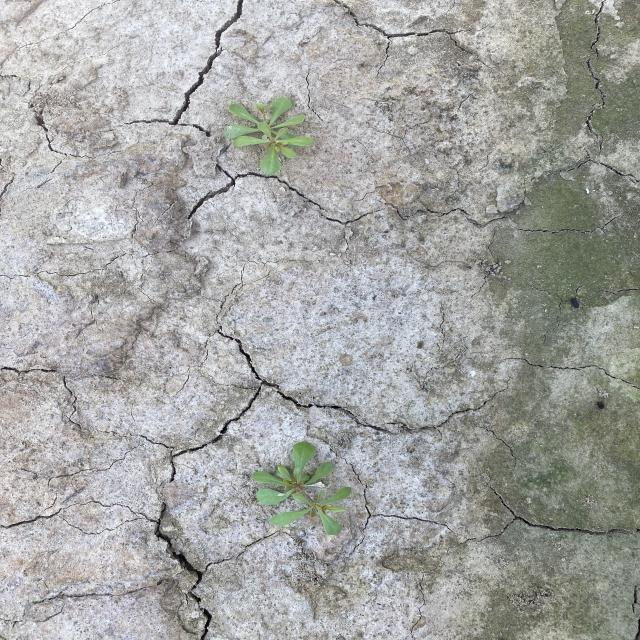Carpetweed: (248, 440, 354, 537), (221, 96, 318, 178)
